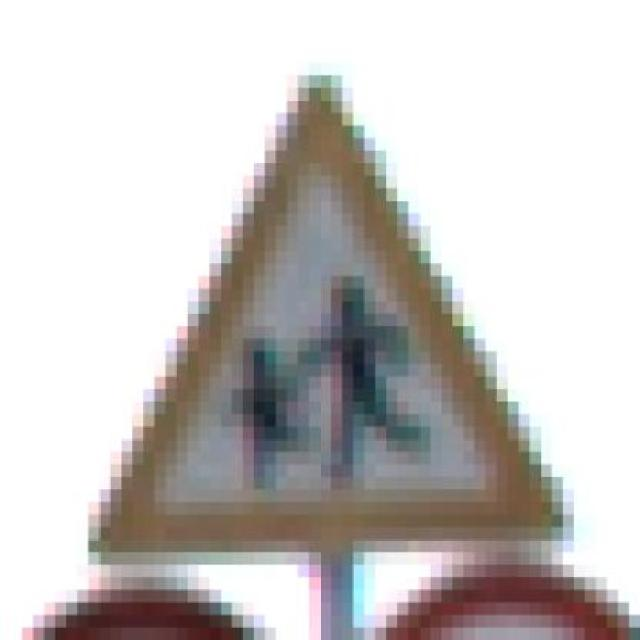Beware of children: (54, 63, 586, 552)
